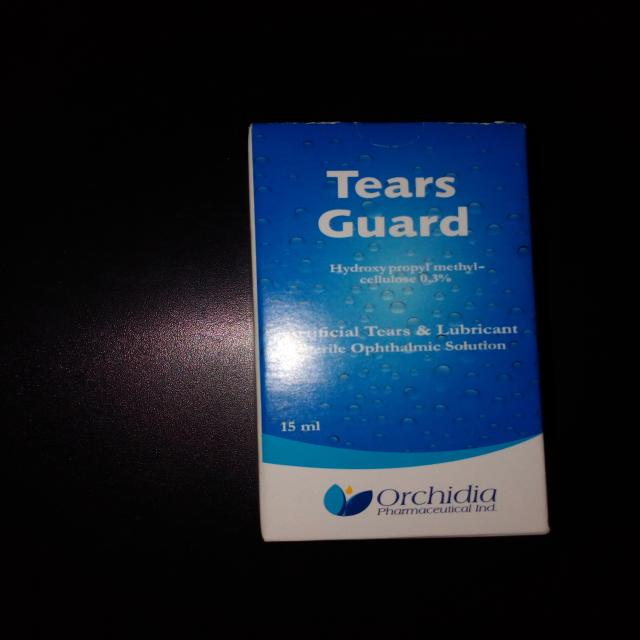Medicine: (245, 118, 553, 544)
